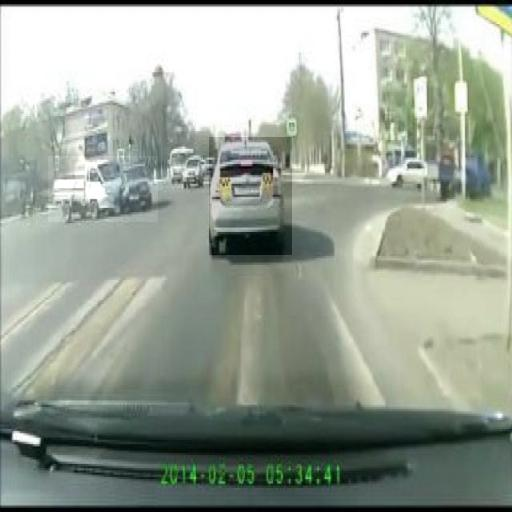小汽车撞小汽车: (209, 137, 292, 255), (48, 156, 158, 222), (184, 155, 204, 189)
